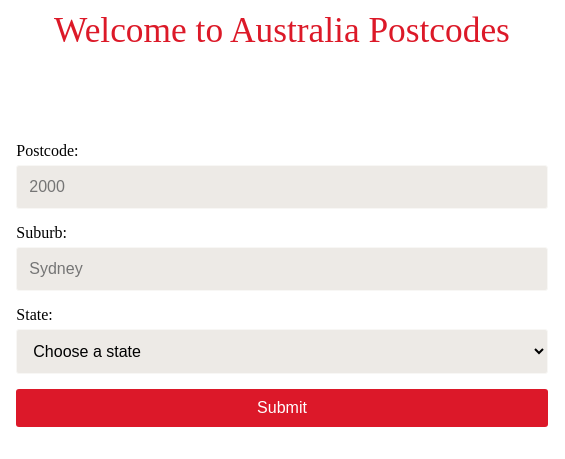
it: postcode is not entered
The image size is (565, 459).
Check: the form is shown, box [16,142,548,427]
Check: the field labelled "Postcode:" is shown, box [16,165,548,209]
Type "Leichhardt" into the field with id "suburb". click: (282, 269)
box: [16,247,548,291]
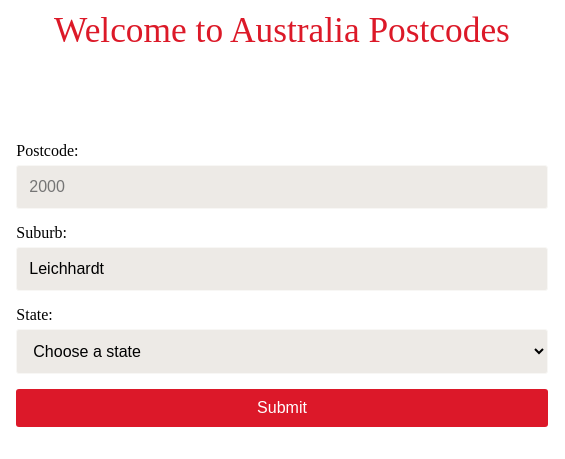
Select "NSW" in the dropdown with id "state". click: (282, 352)
box: [16,329,548,374]
(page scrolled)
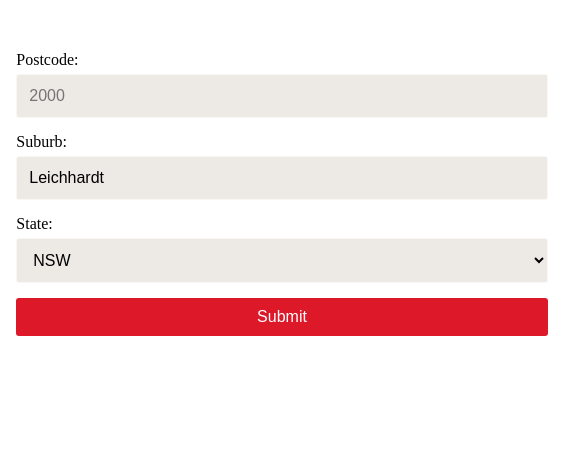
Submit the form, box [16,51,548,336]
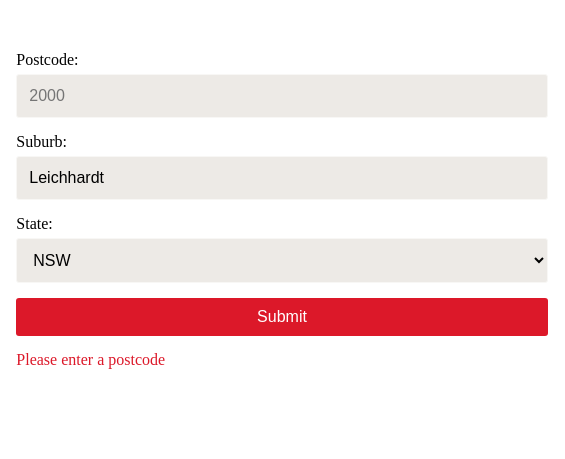
Check: the text named "validation-message" reads "Please enter a postcode", box [16,351,165,368]
